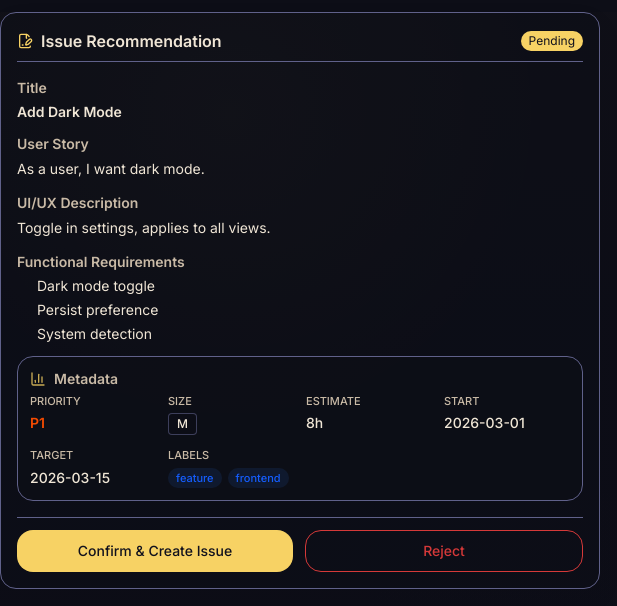
Test: IssueRecommendationPreview › shows auto-model guidance when resolution fails during issue creation
The image size is (617, 606).
Step 1. Click the button "Confirm & Create Issue" → (155, 551), box top-left (17, 530), bottom-right (293, 572)
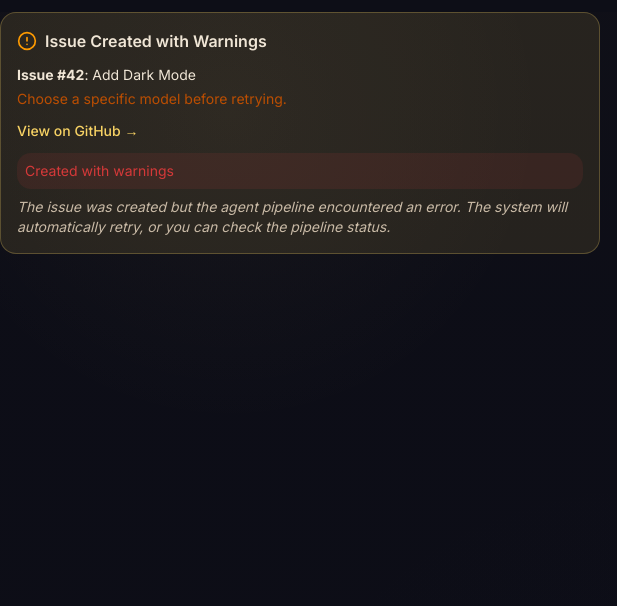
expect the text "Choose a specific model before retrying." is shown: met, box top-left (17, 90), bottom-right (287, 107)
